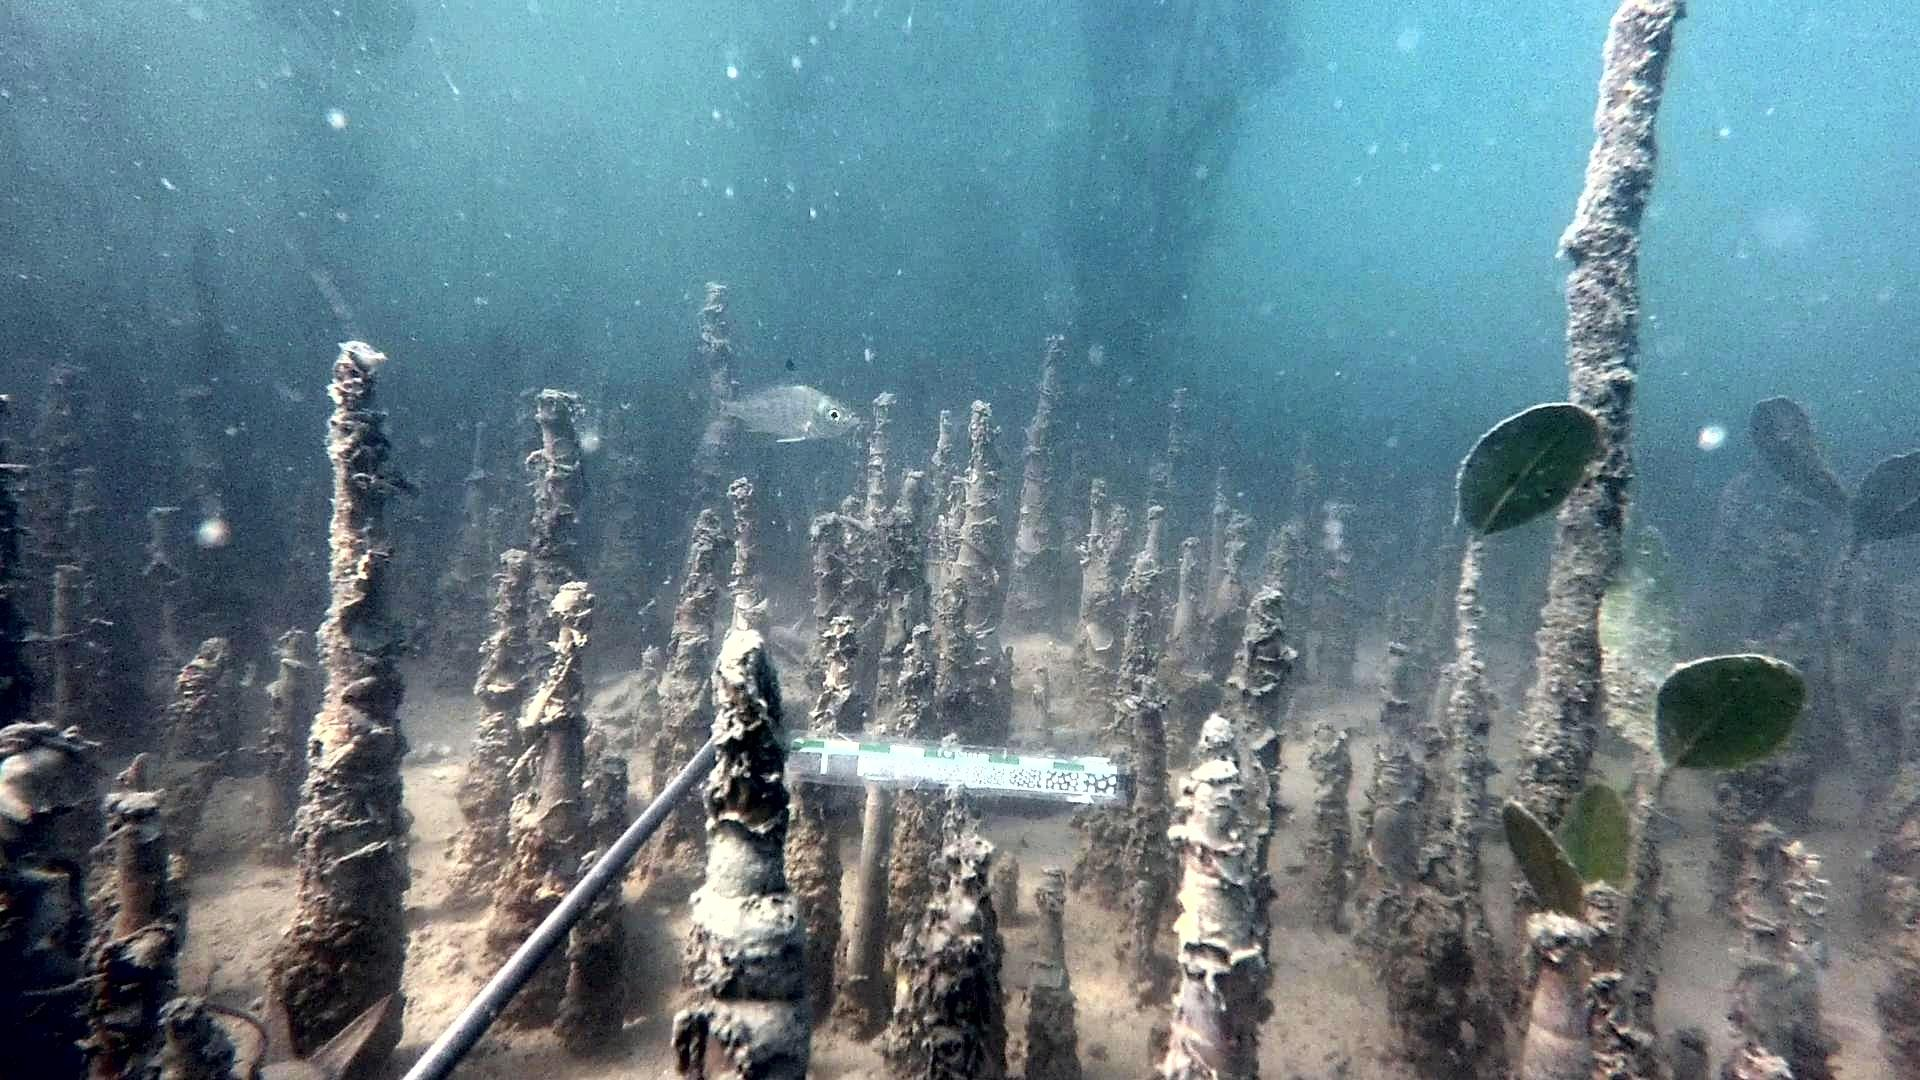gerres: (696, 359, 862, 444)
